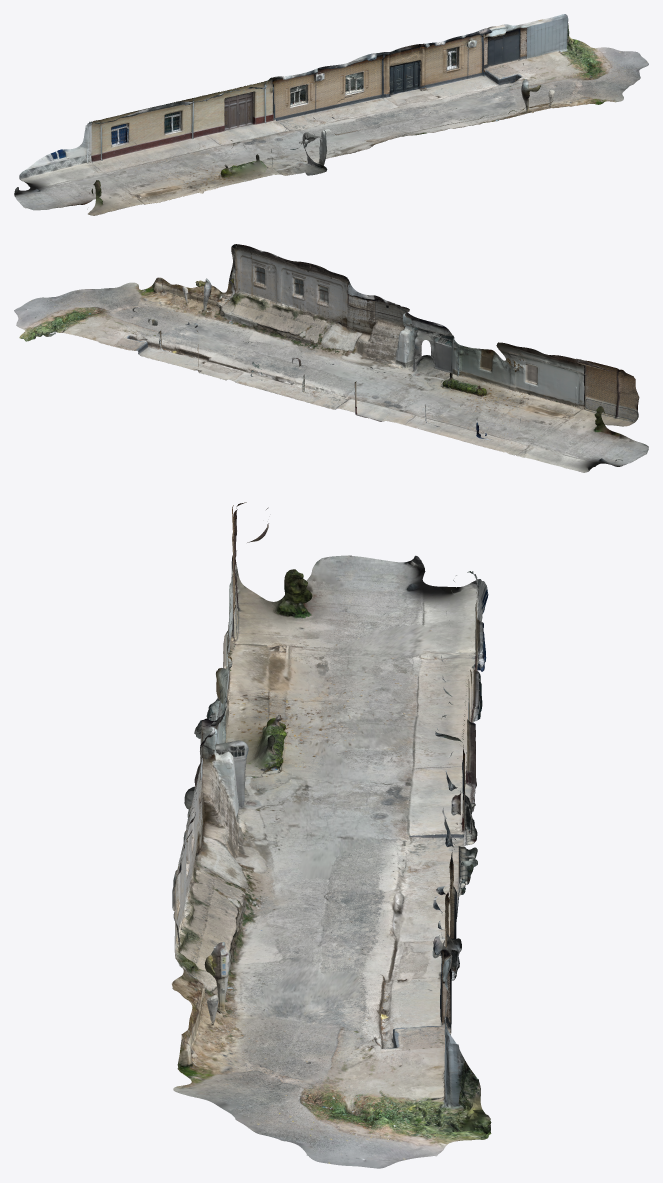
File: angren-4.glb
3 renders of one model, top to bottom at view 1: azimuth 30°, elevation 25°; view 2: azimuth 150°, elevation 25°; view 3: azimuth 270°, elevation 25°, orthographic. The views are drawn at different scales.
Size of the model in its own units: 51.21 by 6.23 by 11.39.
3 materials, 3 textured.
